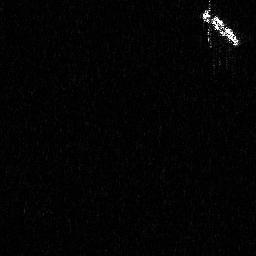ship: (200, 1, 241, 49)
